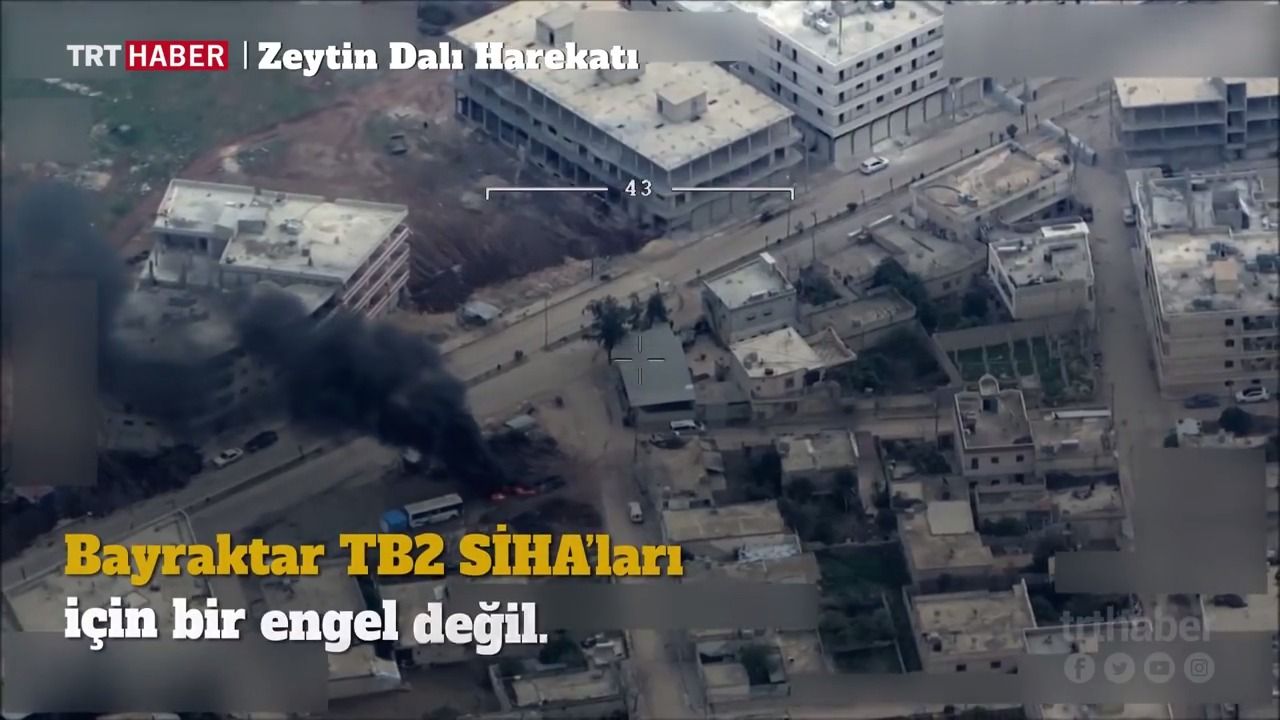arac: (403, 473, 473, 533), (1233, 374, 1278, 410), (1181, 383, 1228, 416), (246, 418, 285, 455), (856, 147, 903, 175), (1068, 199, 1103, 228), (1120, 197, 1146, 231), (669, 414, 709, 436), (211, 439, 243, 466), (624, 491, 644, 524)
